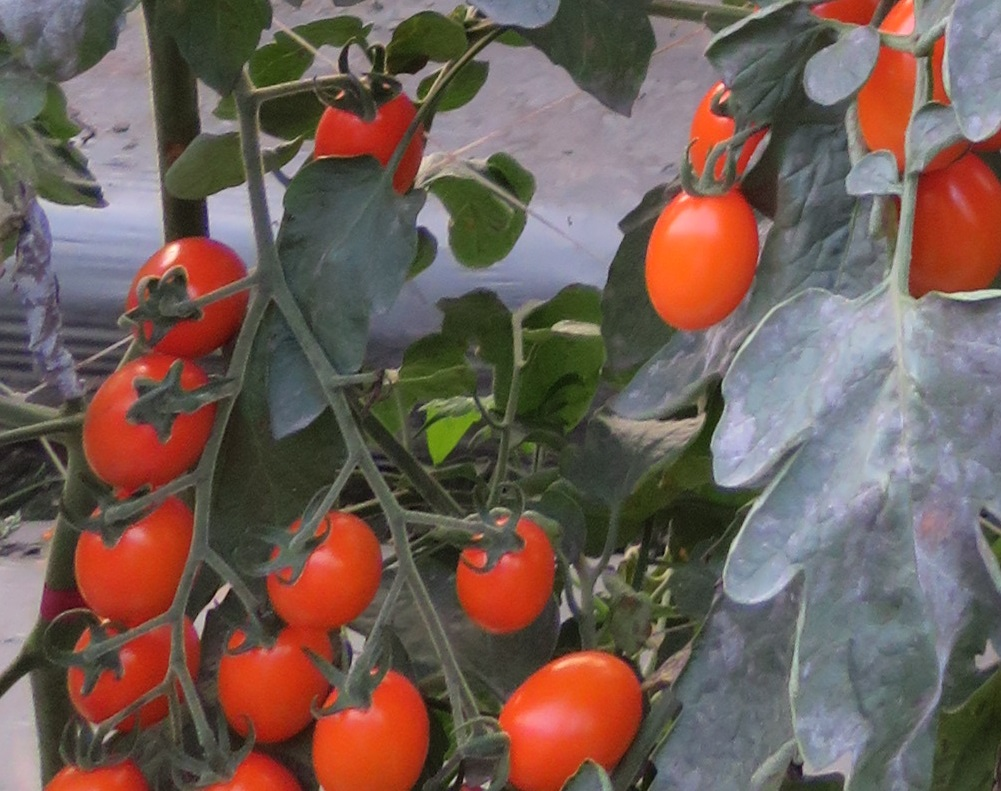orange: (487, 645, 650, 790), (643, 178, 763, 338), (66, 491, 210, 624), (81, 354, 215, 492), (58, 607, 203, 733), (217, 617, 341, 750), (306, 663, 434, 791), (118, 236, 254, 353), (897, 148, 998, 300), (261, 507, 381, 629), (455, 513, 560, 636)
red: (315, 83, 424, 196)
